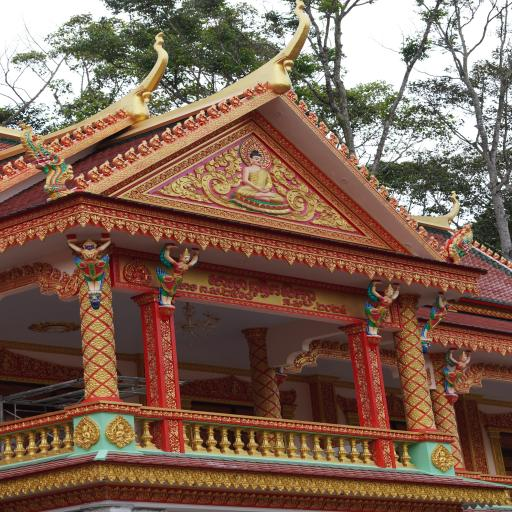hoa: (90, 336, 109, 350), (93, 368, 111, 382), (94, 385, 114, 397), (92, 352, 109, 366), (105, 376, 119, 393), (80, 313, 98, 326), (90, 321, 109, 333), (84, 362, 100, 375), (88, 306, 106, 317), (420, 414, 434, 428), (413, 386, 428, 399), (101, 328, 114, 342), (85, 379, 99, 392), (406, 346, 421, 358), (101, 296, 113, 311), (402, 367, 418, 378), (397, 340, 411, 352), (409, 359, 423, 371), (404, 380, 418, 392), (407, 394, 421, 406), (85, 346, 97, 360), (103, 344, 115, 358), (106, 360, 118, 374), (409, 409, 423, 420), (84, 329, 95, 343), (404, 320, 416, 332), (405, 333, 418, 344), (102, 313, 113, 326), (418, 402, 432, 412), (402, 308, 414, 319), (412, 374, 425, 384), (438, 407, 451, 417), (400, 354, 412, 364), (436, 395, 448, 405), (448, 425, 460, 435), (98, 206, 111, 215), (111, 209, 124, 218), (422, 379, 431, 392), (401, 388, 409, 402), (172, 220, 183, 230), (397, 328, 408, 338), (441, 419, 452, 429), (86, 204, 98, 213), (160, 218, 172, 227), (399, 376, 408, 388), (73, 204, 86, 212), (82, 297, 90, 310), (63, 206, 73, 216), (313, 246, 323, 256), (444, 402, 454, 412), (436, 383, 445, 394), (134, 186, 148, 193), (159, 198, 171, 206), (136, 214, 148, 222), (148, 216, 160, 224), (426, 394, 434, 406), (404, 403, 412, 415), (428, 408, 436, 420), (406, 417, 414, 429), (80, 282, 88, 294), (102, 282, 110, 294), (413, 422, 426, 429), (83, 372, 90, 385), (434, 414, 443, 424), (129, 192, 140, 200), (170, 200, 181, 208), (239, 214, 250, 222), (22, 220, 33, 228), (124, 212, 135, 220), (183, 224, 194, 232), (206, 228, 217, 236), (217, 230, 228, 238), (228, 232, 239, 240), (239, 234, 250, 242), (250, 236, 261, 244), (271, 240, 282, 248), (259, 129, 267, 140), (416, 340, 424, 351), (420, 367, 428, 378), (258, 218, 270, 225), (194, 226, 206, 233), (434, 373, 443, 382), (181, 202, 191, 210), (200, 206, 210, 214), (210, 208, 220, 216), (230, 212, 240, 220), (33, 217, 43, 225), (44, 214, 54, 222), (53, 210, 63, 218), (262, 238, 272, 246), (282, 242, 292, 250), (293, 244, 303, 252), (333, 252, 343, 260), (343, 253, 353, 261), (353, 255, 363, 263), (362, 257, 372, 265), (436, 270, 446, 278), (186, 156, 194, 166), (213, 141, 221, 151), (374, 239, 384, 247), (418, 354, 426, 364), (220, 210, 231, 217), (434, 401, 441, 412), (140, 194, 149, 202), (150, 196, 159, 204), (4, 226, 13, 234), (13, 224, 22, 232), (206, 145, 214, 154), (226, 134, 234, 143), (232, 132, 241, 140), (414, 328, 422, 337), (448, 413, 456, 422), (277, 221, 287, 228), (348, 235, 358, 242), (303, 246, 313, 253), (323, 250, 333, 257), (400, 264, 410, 271), (395, 350, 402, 360), (397, 363, 404, 373), (432, 363, 442, 370), (476, 334, 486, 341), (295, 226, 306, 232), (151, 179, 162, 185), (192, 204, 200, 212), (269, 219, 277, 227), (446, 272, 454, 280), (179, 161, 187, 169), (194, 153, 202, 161), (220, 138, 228, 146), (360, 224, 368, 232), (296, 166, 304, 174), (411, 316, 419, 324), (365, 238, 374, 245), (373, 259, 382, 266), (410, 266, 419, 273), (427, 269, 436, 276), (274, 144, 281, 153), (393, 337, 400, 346), (437, 426, 446, 433), (331, 232, 341, 238), (172, 166, 182, 172), (82, 357, 87, 369), (250, 216, 258, 223), (306, 227, 314, 234), (200, 150, 207, 158), (245, 125, 253, 132), (267, 138, 274, 146), (366, 231, 374, 238), (281, 151, 288, 159), (431, 392, 438, 400), (486, 336, 494, 343), (504, 339, 512, 346), (85, 388, 90, 399), (314, 229, 323, 235), (382, 261, 391, 267), (419, 268, 428, 274), (454, 332, 463, 338), (240, 128, 247, 135), (318, 186, 325, 193), (289, 159, 296, 166), (439, 366, 446, 373), (78, 272, 85, 279), (324, 230, 332, 236), (341, 234, 349, 240), (392, 263, 400, 269), (454, 274, 462, 280), (463, 276, 471, 282), (164, 172, 176, 176), (400, 317, 406, 325), (497, 338, 505, 344), (158, 175, 167, 180), (288, 223, 295, 229), (358, 237, 365, 243), (353, 218, 359, 225), (339, 206, 346, 212), (448, 330, 455, 336), (463, 332, 470, 338), (470, 334, 477, 340), (82, 340, 85, 354), (143, 184, 153, 188), (311, 178, 316, 186), (108, 278, 113, 286), (115, 390, 120, 398), (472, 277, 478, 283), (347, 213, 353, 219), (304, 173, 310, 179), (431, 423, 437, 429), (492, 338, 498, 344), (78, 294, 82, 303), (81, 326, 84, 338), (254, 126, 258, 134), (439, 330, 447, 334), (104, 270, 108, 278), (333, 200, 338, 206), (326, 192, 331, 198), (77, 278, 82, 284), (109, 292, 113, 299), (0, 231, 5, 236), (440, 380, 445, 385), (444, 431, 451, 434), (454, 421, 458, 426), (433, 328, 438, 332)
la: (160, 174, 208, 205), (316, 202, 359, 235), (202, 172, 236, 209), (286, 189, 316, 223), (270, 156, 290, 196), (18, 354, 41, 378), (198, 380, 226, 398), (226, 148, 241, 177), (146, 224, 168, 243), (98, 214, 118, 233), (122, 219, 143, 237), (41, 359, 59, 380), (192, 233, 214, 250), (170, 228, 190, 244), (238, 242, 258, 258), (53, 217, 71, 234), (280, 249, 298, 266), (60, 364, 79, 380), (216, 237, 236, 252), (73, 214, 94, 228), (321, 257, 339, 273), (259, 246, 278, 261), (36, 222, 50, 242), (362, 264, 379, 280), (302, 253, 320, 268), (124, 464, 138, 483), (144, 466, 158, 485), (183, 468, 196, 488), (436, 277, 452, 293), (282, 389, 298, 405), (94, 464, 108, 482), (134, 466, 148, 484), (154, 466, 168, 484), (201, 470, 215, 488), (86, 213, 105, 226), (111, 218, 130, 231), (159, 227, 178, 240), (114, 464, 127, 483), (282, 474, 294, 494), (63, 214, 80, 228), (342, 261, 359, 275), (381, 268, 398, 282), (331, 478, 345, 495), (174, 468, 187, 486), (210, 470, 223, 488), (228, 471, 241, 489), (205, 235, 224, 247), (274, 474, 286, 493), (399, 271, 415, 285), (418, 274, 434, 288), (182, 380, 196, 396), (16, 230, 29, 247), (135, 222, 153, 234), (183, 231, 201, 243), (270, 248, 288, 260), (193, 469, 205, 487), (220, 471, 232, 489), (291, 475, 303, 493), (308, 476, 320, 494), (316, 476, 328, 494), (386, 482, 398, 500), (312, 254, 328, 267), (52, 472, 64, 489), (164, 468, 176, 485), (264, 474, 276, 491), (324, 478, 336, 495), (244, 382, 254, 402), (249, 244, 267, 255), (69, 468, 80, 486), (238, 472, 249, 490), (248, 473, 259, 491), (256, 473, 267, 491), (300, 476, 311, 494), (46, 220, 60, 234), (296, 177, 310, 191), (101, 485, 114, 500), (333, 258, 349, 270), (78, 466, 88, 485), (228, 240, 245, 251), (292, 252, 309, 263), (147, 357, 158, 374), (454, 281, 468, 294), (160, 323, 172, 338), (164, 356, 174, 374), (28, 477, 39, 493), (44, 474, 55, 490), (341, 480, 352, 496), (348, 480, 359, 496), (403, 484, 414, 500), (356, 366, 367, 382), (107, 464, 116, 483), (358, 480, 368, 497), (380, 482, 390, 499), (410, 484, 420, 501), (467, 339, 480, 352), (481, 341, 494, 354), (205, 160, 219, 172), (391, 269, 406, 280), (445, 279, 460, 290), (0, 236, 9, 254), (352, 262, 368, 272), (20, 479, 30, 495), (62, 470, 72, 486), (366, 481, 376, 497), (354, 349, 364, 365), (162, 339, 172, 355), (166, 392, 176, 408), (146, 339, 156, 355), (38, 475, 47, 492), (440, 485, 449, 502), (166, 373, 174, 392), (462, 488, 472, 503), (88, 465, 96, 483), (418, 485, 427, 501), (496, 344, 508, 356), (146, 318, 154, 336), (150, 377, 159, 393), (463, 282, 476, 293), (217, 153, 228, 166), (373, 266, 387, 276), (395, 484, 405, 498), (86, 488, 96, 502), (120, 486, 130, 500), (373, 383, 383, 397), (448, 486, 456, 503), (439, 334, 450, 346), (453, 337, 465, 348), (324, 400, 335, 412), (428, 276, 441, 286), (135, 487, 145, 500), (168, 490, 178, 503), (212, 492, 222, 505), (352, 335, 362, 348), (150, 394, 160, 407), (6, 481, 14, 497), (426, 484, 434, 500), (434, 485, 442, 501), (454, 487, 462, 503), (373, 480, 380, 498), (152, 488, 161, 502), (362, 400, 371, 414), (369, 350, 378, 364), (372, 363, 379, 381), (325, 412, 336, 423), (13, 480, 21, 495), (484, 489, 492, 504), (144, 306, 154, 318), (313, 410, 323, 422), (29, 227, 38, 240), (182, 490, 191, 503), (359, 385, 368, 398), (410, 274, 424, 282), (471, 488, 478, 504), (220, 492, 228, 506), (284, 168, 295, 178), (398, 501, 408, 512), (461, 337, 471, 348), (489, 342, 500, 352), (324, 391, 334, 402), (73, 492, 82, 504), (324, 498, 333, 510), (478, 488, 485, 503), (33, 497, 41, 510), (46, 495, 54, 508), (198, 491, 206, 504), (228, 492, 236, 505), (235, 492, 243, 505), (364, 414, 372, 427), (321, 384, 334, 392), (8, 235, 17, 246), (20, 501, 29, 512), (475, 340, 486, 349), (291, 494, 298, 508), (377, 401, 384, 415), (116, 404, 128, 412), (59, 494, 67, 506), (243, 493, 251, 505), (270, 495, 278, 507), (284, 496, 292, 508), (298, 496, 306, 508), (312, 497, 320, 509), (337, 499, 345, 511), (351, 499, 359, 511), (363, 500, 371, 512), (196, 165, 206, 174), (0, 483, 6, 498), (6, 503, 16, 512), (152, 409, 163, 417), (387, 501, 395, 512), (446, 336, 457, 344), (380, 418, 388, 429), (80, 489, 87, 501), (145, 488, 151, 502), (191, 491, 198, 503), (257, 494, 264, 506), (376, 500, 383, 512), (182, 412, 192, 420), (240, 417, 250, 425), (249, 418, 259, 426), (493, 488, 498, 504), (499, 490, 504, 506), (423, 502, 431, 512), (432, 332, 440, 342), (141, 409, 152, 416), (172, 411, 183, 418), (95, 404, 107, 410), (268, 420, 277, 428), (67, 492, 73, 504), (345, 499, 351, 511), (504, 345, 512, 354), (310, 384, 318, 393), (163, 411, 173, 418), (193, 413, 203, 420), (202, 414, 212, 421), (212, 415, 222, 422), (231, 417, 241, 424), (278, 495, 284, 506), (130, 486, 135, 499), (128, 405, 136, 413), (382, 442, 390, 450), (383, 453, 391, 461), (0, 504, 8, 512), (107, 404, 116, 411), (222, 416, 231, 423), (440, 503, 447, 512), (312, 425, 322, 431), (330, 426, 340, 432), (425, 434, 435, 440), (380, 438, 390, 444), (15, 502, 21, 512), (28, 500, 34, 510), (41, 497, 46, 509), (54, 494, 59, 506), (95, 488, 100, 500), (177, 490, 182, 502), (251, 493, 256, 505), (306, 496, 311, 508), (382, 500, 387, 512), (412, 502, 418, 512), (312, 392, 318, 402), (278, 421, 286, 428), (287, 422, 295, 429), (296, 423, 304, 430), (339, 427, 347, 434), (356, 428, 363, 436), (385, 461, 392, 469), (161, 488, 165, 502), (206, 491, 210, 505), (65, 410, 76, 415), (86, 406, 95, 412), (321, 426, 330, 432), (347, 428, 356, 434), (364, 430, 373, 436), (430, 503, 436, 512), (435, 503, 441, 512), (448, 503, 454, 512), (265, 494, 269, 507), (48, 417, 58, 422), (76, 408, 86, 413), (371, 500, 376, 510), (407, 502, 412, 512), (418, 502, 423, 512), (373, 430, 380, 437), (381, 431, 388, 438), (32, 420, 40, 426), (40, 418, 48, 424), (260, 420, 268, 426), (388, 432, 396, 438), (404, 434, 412, 440), (411, 435, 419, 441), (436, 435, 444, 441), (444, 435, 452, 441), (114, 486, 118, 498), (319, 497, 323, 509), (427, 334, 435, 340), (313, 402, 319, 410), (22, 422, 31, 427), (333, 498, 337, 509), (358, 499, 362, 510), (394, 501, 398, 512), (305, 424, 312, 430), (397, 433, 404, 439), (418, 434, 424, 441), (91, 199, 98, 205), (155, 211, 161, 218), (265, 232, 272, 238), (14, 424, 22, 429), (56, 415, 64, 420), (97, 201, 105, 206), (104, 202, 112, 207), (111, 204, 119, 209), (130, 207, 138, 212), (173, 216, 181, 221), (286, 237, 294, 242), (0, 426, 6, 432), (124, 206, 130, 212), (138, 208, 144, 214), (204, 221, 210, 227), (210, 222, 216, 228), (312, 241, 318, 247), (369, 252, 375, 258), (457, 505, 462, 512), (455, 472, 462, 477), (468, 474, 475, 479), (197, 220, 204, 225), (6, 426, 14, 430), (383, 450, 391, 454), (454, 504, 458, 512), (462, 473, 468, 478), (493, 477, 499, 482), (504, 478, 510, 483), (49, 206, 54, 212), (149, 211, 155, 216), (161, 213, 167, 218), (168, 214, 174, 219), (185, 218, 191, 223), (191, 219, 197, 224), (221, 224, 226, 230), (226, 225, 232, 230), (255, 230, 260, 236), (260, 232, 266, 237), (277, 234, 282, 240), (307, 240, 312, 246), (323, 243, 328, 249), (328, 244, 333, 250), (343, 247, 348, 253), (354, 250, 360, 255), (374, 253, 380, 258), (380, 254, 385, 260), (411, 260, 417, 265), (424, 263, 430, 268), (136, 407, 140, 414), (64, 202, 71, 206), (248, 230, 255, 234), (499, 477, 504, 482), (34, 212, 39, 217), (44, 209, 49, 214), (74, 198, 79, 203), (144, 210, 149, 215), (272, 234, 277, 239), (282, 236, 287, 241), (297, 239, 302, 244), (302, 240, 307, 245), (318, 243, 323, 248), (402, 258, 407, 263), (406, 260, 411, 265), (430, 264, 435, 269), (476, 475, 482, 479), (8, 220, 14, 224), (18, 217, 24, 221), (24, 216, 30, 220), (29, 214, 35, 218), (70, 200, 76, 204), (120, 204, 124, 210), (232, 227, 238, 231), (238, 228, 244, 232), (244, 228, 248, 234), (334, 245, 338, 251), (364, 252, 370, 256), (385, 256, 391, 260), (391, 257, 397, 261), (434, 265, 440, 269), (452, 268, 458, 272), (2, 223, 9, 226), (488, 477, 492, 482), (13, 219, 18, 223), (39, 210, 44, 214), (61, 203, 65, 208), (84, 198, 88, 203), (88, 198, 92, 203), (180, 217, 185, 221), (293, 238, 297, 243), (338, 247, 343, 251), (348, 249, 353, 253), (360, 251, 365, 255), (397, 258, 402, 262), (420, 262, 424, 267), (444, 266, 448, 271), (452, 436, 455, 442), (472, 273, 478, 276), (482, 477, 486, 481), (54, 206, 58, 210), (58, 204, 62, 208), (216, 224, 220, 228), (440, 266, 444, 270), (465, 270, 469, 274), (0, 223, 3, 228), (417, 261, 420, 266), (448, 267, 451, 272), (458, 270, 461, 273), (462, 270, 464, 274), (471, 272, 473, 275)
lua: (74, 174, 90, 190), (137, 140, 152, 156), (124, 147, 139, 162), (112, 154, 128, 168), (254, 80, 268, 95), (162, 128, 176, 143), (150, 134, 164, 149), (99, 160, 114, 174), (88, 167, 102, 182), (2, 162, 17, 176), (206, 105, 221, 118), (242, 86, 256, 99), (229, 94, 243, 107), (183, 118, 198, 130), (171, 123, 186, 135), (94, 117, 108, 129), (348, 153, 360, 167), (62, 133, 74, 146), (74, 127, 86, 140), (84, 122, 96, 135), (116, 105, 128, 118), (8, 268, 21, 280), (20, 265, 33, 277), (50, 139, 64, 150), (286, 88, 297, 102), (308, 110, 319, 124), (50, 267, 61, 281), (318, 120, 328, 135), (339, 142, 349, 157), (418, 225, 428, 240), (218, 100, 230, 112), (196, 112, 208, 124), (15, 156, 27, 168), (380, 184, 389, 200), (298, 100, 308, 114), (329, 132, 339, 146), (358, 164, 368, 178), (369, 174, 379, 188), (106, 112, 117, 124), (408, 216, 418, 229), (32, 263, 42, 275), (43, 263, 51, 278), (429, 236, 438, 249), (390, 196, 398, 209), (400, 205, 408, 218), (470, 363, 480, 373), (341, 342, 351, 352), (477, 362, 487, 371), (383, 348, 392, 358), (314, 339, 323, 349), (332, 340, 340, 351), (63, 270, 70, 282), (494, 364, 502, 373), (456, 380, 463, 390), (1, 272, 7, 283), (466, 370, 474, 378), (486, 363, 493, 372), (324, 340, 331, 349), (390, 349, 396, 359), (378, 350, 385, 358), (502, 365, 508, 374), (308, 345, 315, 352), (473, 240, 479, 248), (480, 244, 486, 252), (487, 248, 493, 256), (494, 252, 500, 260), (460, 372, 466, 380), (501, 256, 506, 265), (507, 260, 512, 269), (508, 366, 512, 374)
ran: (24, 150, 75, 197), (443, 223, 474, 266)
than: (68, 237, 111, 310), (237, 150, 285, 205), (160, 243, 199, 308), (365, 280, 400, 338), (445, 347, 472, 394), (421, 295, 450, 338), (106, 414, 138, 449), (74, 418, 100, 451), (123, 258, 156, 284), (433, 444, 452, 472), (1, 350, 17, 376), (226, 380, 242, 400)
